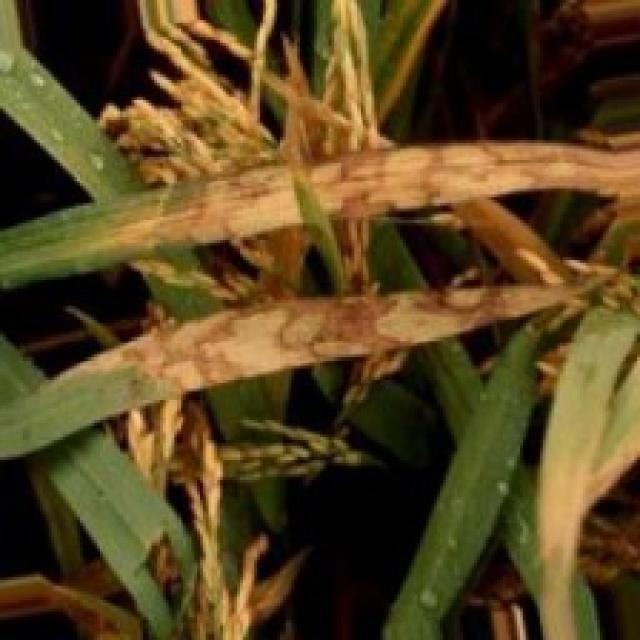Bacterial_Blight: (110, 138, 640, 272), (84, 286, 582, 428)
